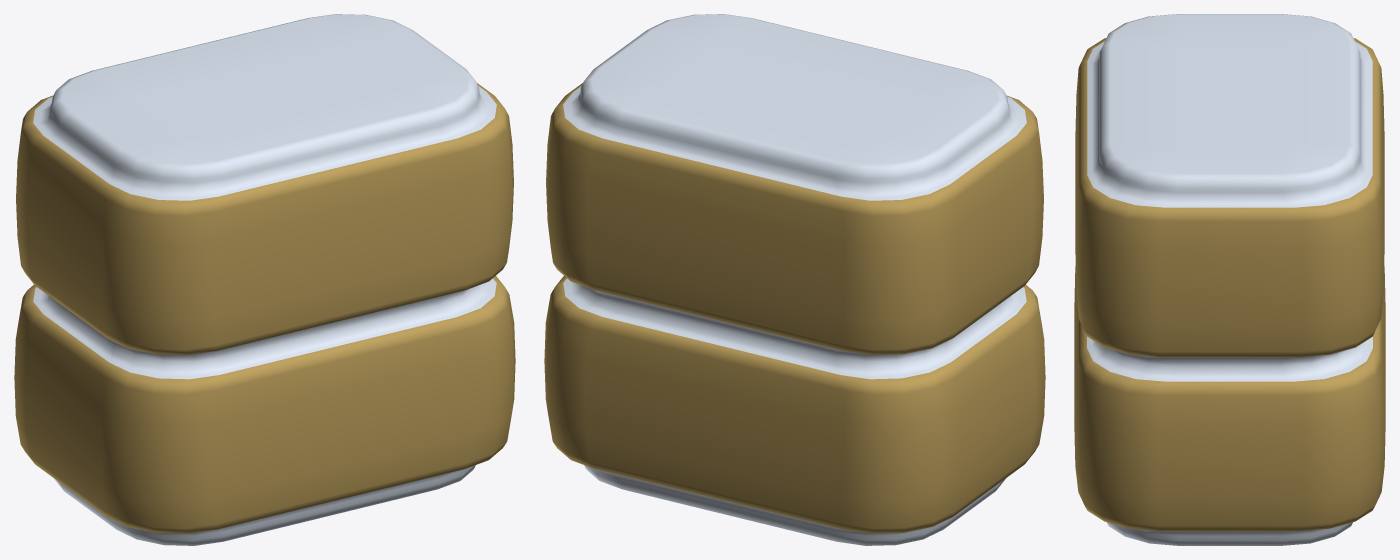
File: SM_Building_03_Version_04_Part_03.fbx
The picture shows the model from 3 angles, left to right: view 1: azimuth 30°, elevation 25°; view 2: azimuth 150°, elevation 25°; view 3: azimuth 270°, elevation 25°; orthographic projection. The views are drawn at different scales.
Parts seen in each view (by area): view 1: SM_Building_03_Version_04_Part_03; view 2: SM_Building_03_Version_04_Part_03; view 3: SM_Building_03_Version_04_Part_03.
Part boxes in pixels (left/top/right/bottom): SM_Building_03_Version_04_Part_03: left=14, top=14, right=515, bottom=545; SM_Building_03_Version_04_Part_03: left=544, top=14, right=1045, bottom=545; SM_Building_03_Version_04_Part_03: left=1074, top=14, right=1385, bottom=545.
Size of the model in its own units: 4459 by 4025 by 3053.
